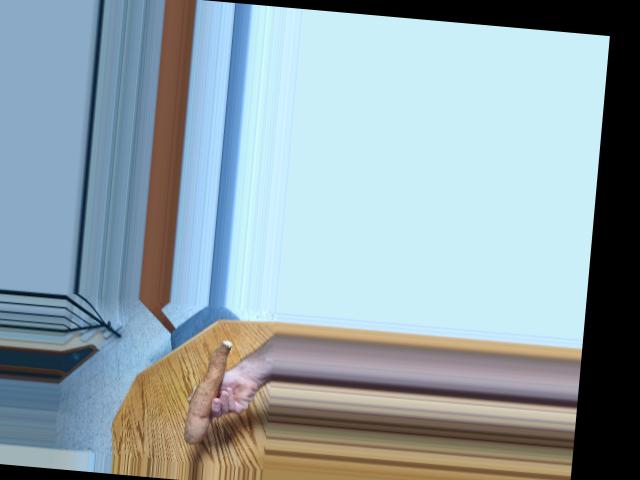sweet_potato: (177, 339, 233, 442)
